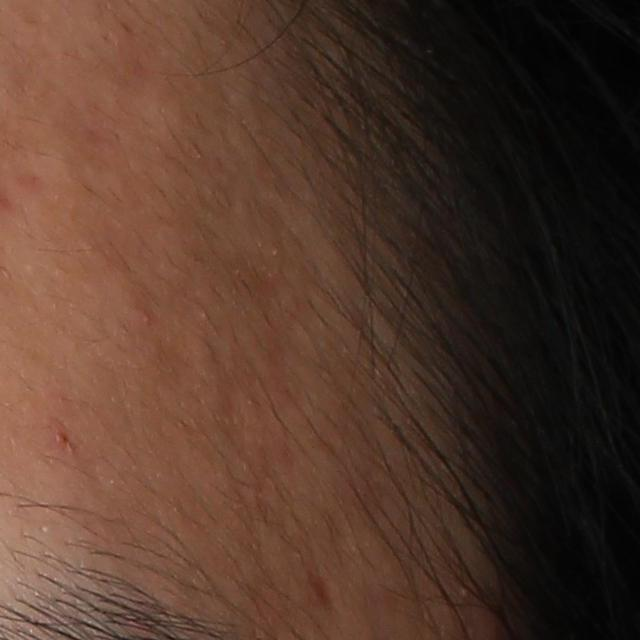atrophic_scar: (305, 569, 337, 604)
